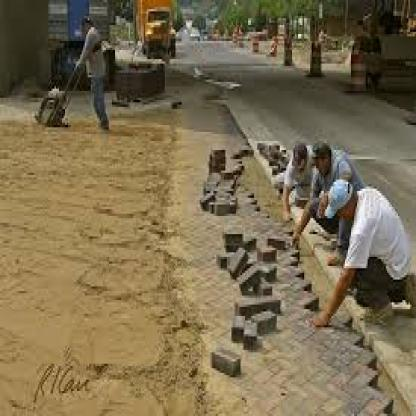car: (130, 1, 194, 66)
